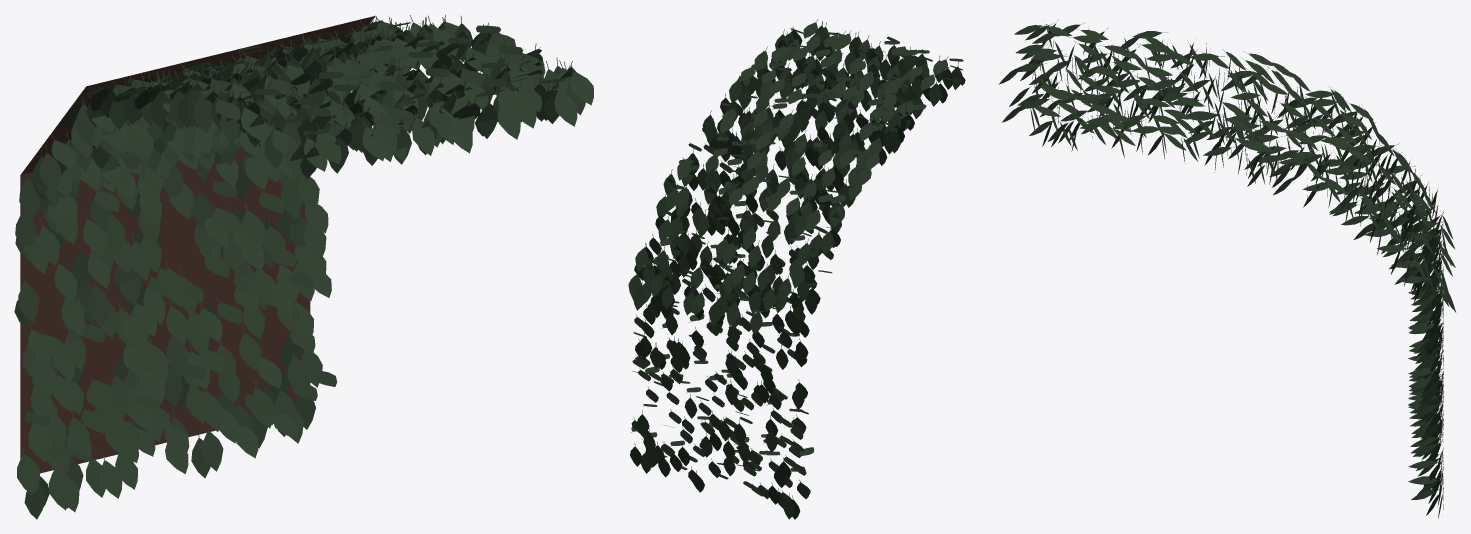
Rendered from LeafWall.fbx.
The picture shows the model from 3 angles, left to right: view 1: azimuth 30°, elevation 25°; view 2: azimuth 150°, elevation 25°; view 3: azimuth 270°, elevation 25°; orthographic projection. The views are drawn at different scales.
Visible parts, largest first — view 1: LeafWall_Wall; view 2: LeafWall_Wall; view 3: LeafWall_Wall.
Part boxes in pixels (left/top/right/bottom): LeafWall_Wall: left=14, top=15, right=593, bottom=519; LeafWall_Wall: left=628, top=19, right=965, bottom=519; LeafWall_Wall: left=998, top=19, right=1455, bottom=518.
Bounding box in the file's own units: 0.0107 × 0.0194 × 0.019.
